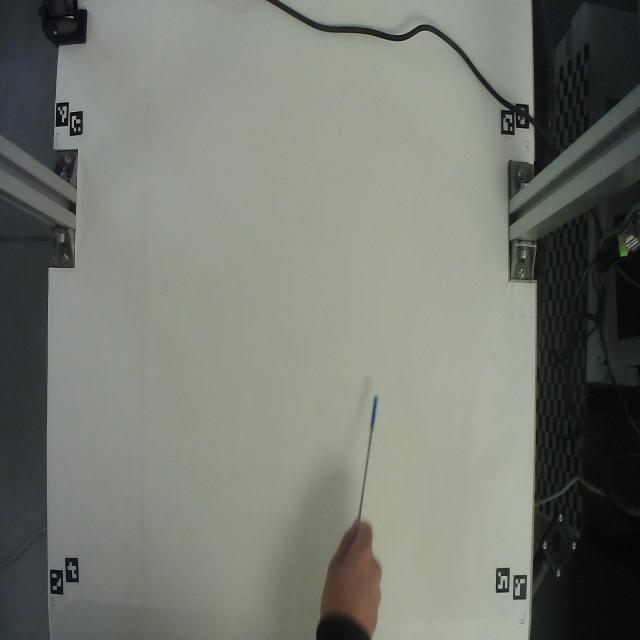NoPres: (349, 388, 393, 524)
